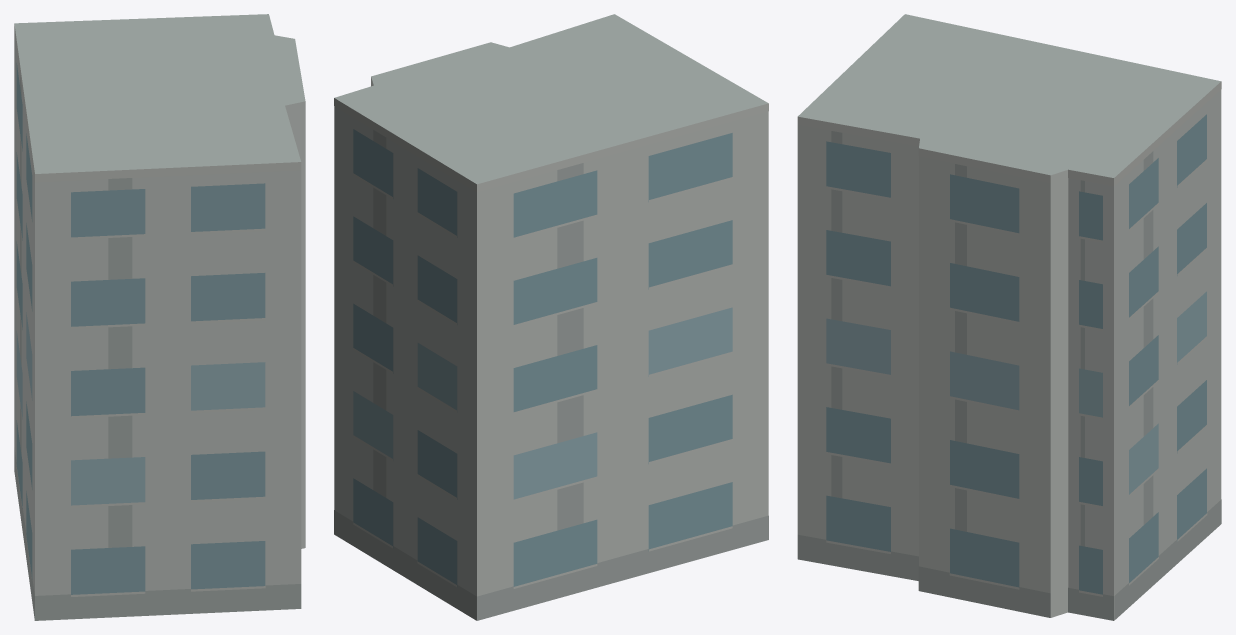
File: survey-upis-32911885.glb
3 views of the same model, side by side, from view 1: azimuth 30°, elevation 25°; view 2: azimuth 150°, elevation 25°; view 3: azimuth 270°, elevation 25° (orthographic). The views are drawn at different scales.
Visible parts, largest first — view 1: survey-upis-32911885.tmp; view 2: survey-upis-32911885.tmp; view 3: survey-upis-32911885.tmp.
Part boxes in pixels (<box>): survey-upis-32911885.tmp: <box>14,14,305,620</box>; survey-upis-32911885.tmp: <box>334,14,768,620</box>; survey-upis-32911885.tmp: <box>797,14,1221,620</box>.
Size of the model in its own units: 10.5 by 13.2 by 11.46.
